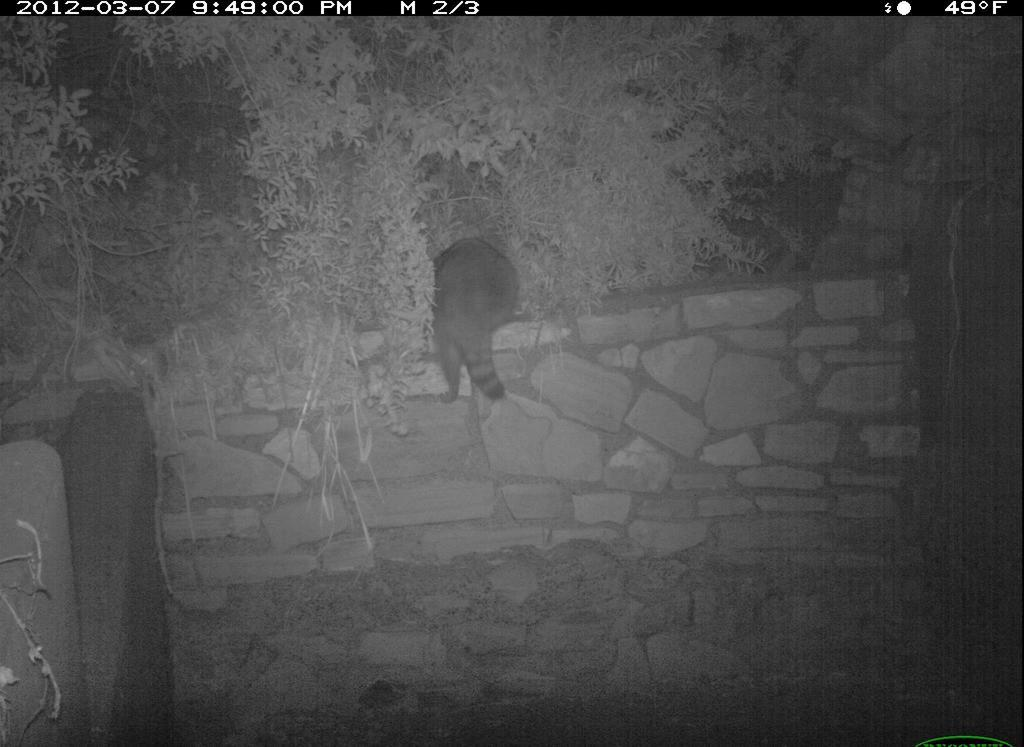raccoon: (427, 225, 520, 422)
